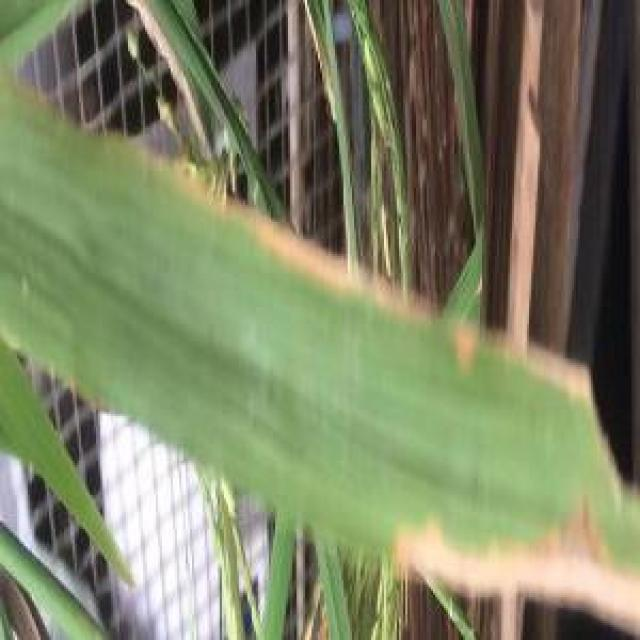Bacterial_Blight: (172, 170, 590, 392), (388, 494, 640, 640)
